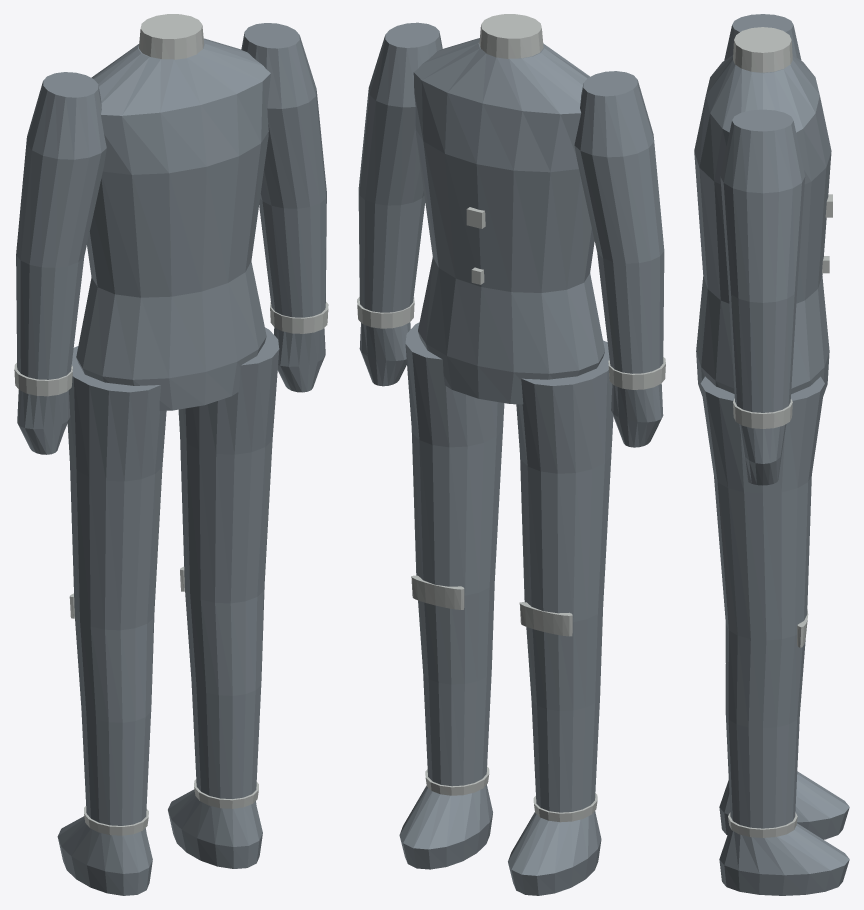
The model's file is CHAR-064.glb.
The picture shows the model from 3 angles, left to right: view 1: azimuth 30°, elevation 25°; view 2: azimuth 150°, elevation 25°; view 3: azimuth 270°, elevation 25°; orthographic projection. The views are drawn at different scales.
Parts seen in each view (by area): view 1: 精细体素青少年身体母版; view 2: 精细体素青少年身体母版; view 3: 精细体素青少年身体母版.
Boxes of the visible parts, x1,y1,x2,y2 form: 精细体素青少年身体母版: (14, 14, 328, 895); 精细体素青少年身体母版: (357, 14, 665, 895); 精细体素青少年身体母版: (694, 14, 849, 895).
Size of the model in its own units: 0.4893 by 1.28 by 0.2217.
2 materials, 2 textured.
